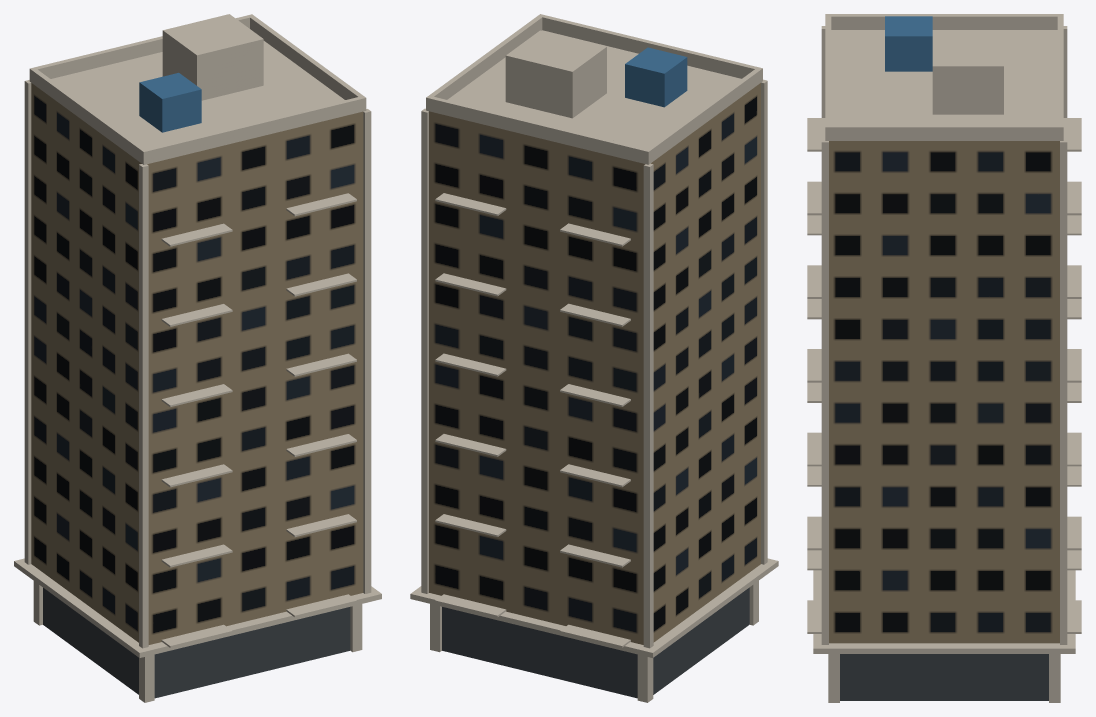
File: predio_1.glb
The picture shows the model from 3 angles, left to right: view 1: azimuth 30°, elevation 25°; view 2: azimuth 150°, elevation 25°; view 3: azimuth 270°, elevation 25°; orthographic projection. The views are drawn at different scales.
Parts seen in each view (by area): view 1: fachada, con, ter, cx; view 2: fachada, con, ter, cx; view 3: fachada, con, ter, cx.
Part boxes in pixels (left/top/right/bottom): fachada: left=31, top=83, right=363, bottom=644; con: left=14, top=14, right=381, bottom=702; ter: left=43, top=587, right=350, bottom=698; cx: left=139, top=72, right=201, bottom=132; fachada: left=429, top=83, right=760, bottom=644; con: left=410, top=14, right=778, bottom=702; ter: left=442, top=587, right=749, bottom=698; cx: left=625, top=47, right=687, bottom=107; fachada: left=829, top=141, right=1059, bottom=643; con: left=807, top=14, right=1081, bottom=702; ter: left=840, top=654, right=1048, bottom=700; cx: left=885, top=16, right=932, bottom=71.
Bounding box in the file's own units: 19.6 × 45.3 × 18.4.
4 materials, 1 textured.
